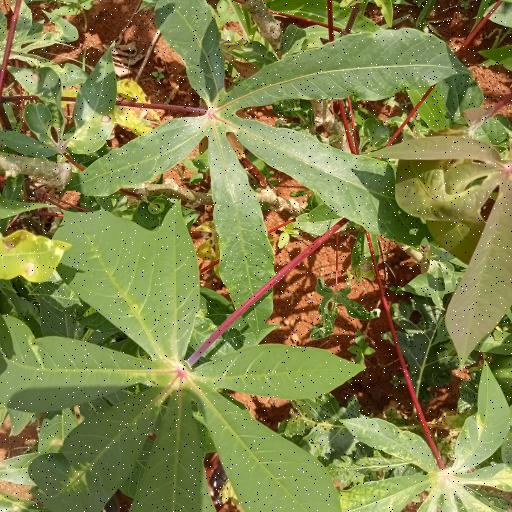Cassava_Brown_Leaf_Spot: (0, 234, 66, 285), (71, 94, 120, 160)
Cassava_Healthy: (69, 0, 483, 281), (11, 214, 357, 512)
